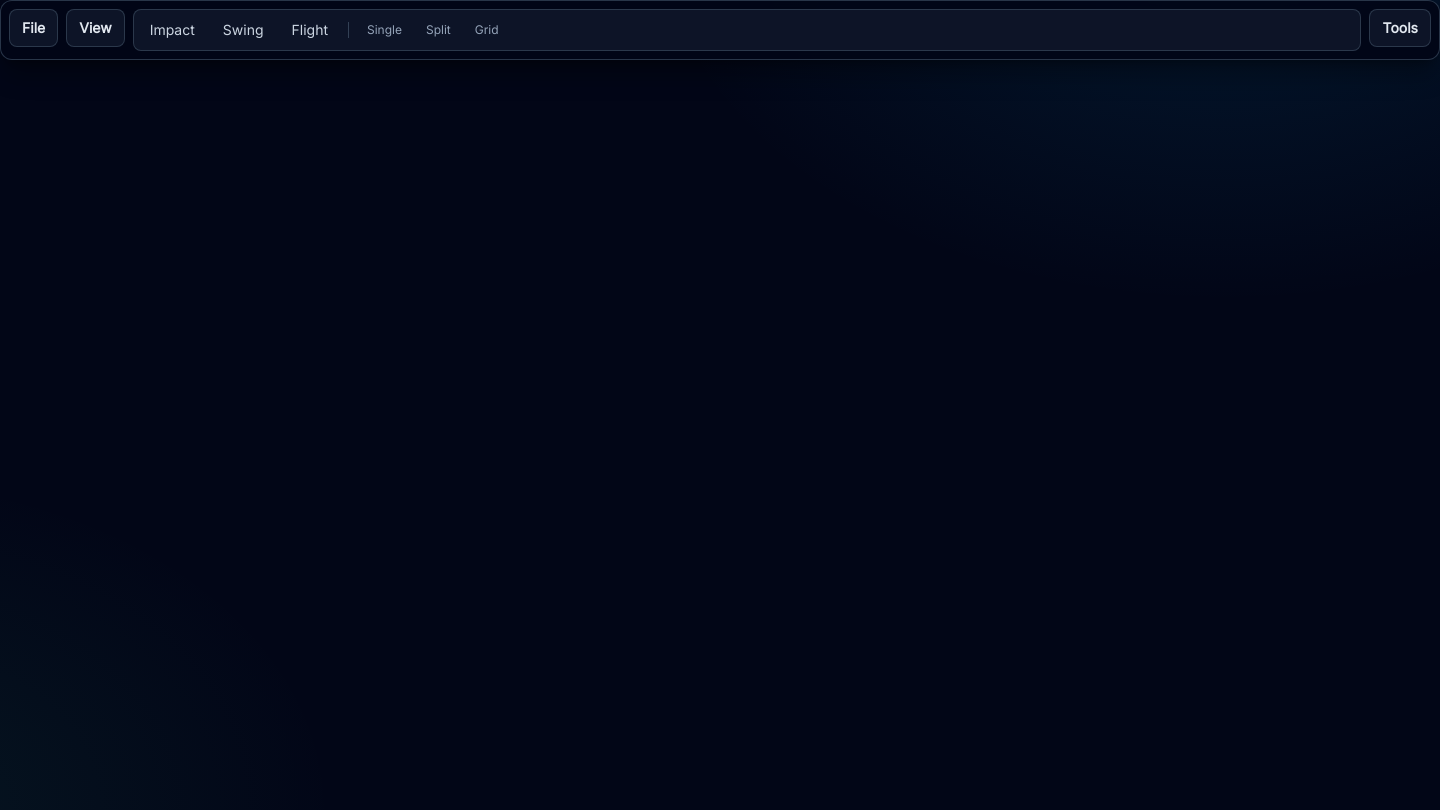
Test: AppToolstrip › exposes responsive File, View, and Tools command surfaces
The image size is (1440, 810).
Expected: the element with class "overflow-x-auto" is shown, x1=133 y1=9 x2=1361 y2=51
Expected: the heading "File" is shown, x1=22 y1=19 x2=45 y2=36
Click the heading "View" at {"x": 95, "y": 28}, box x1=79 y1=19 x2=112 y2=36
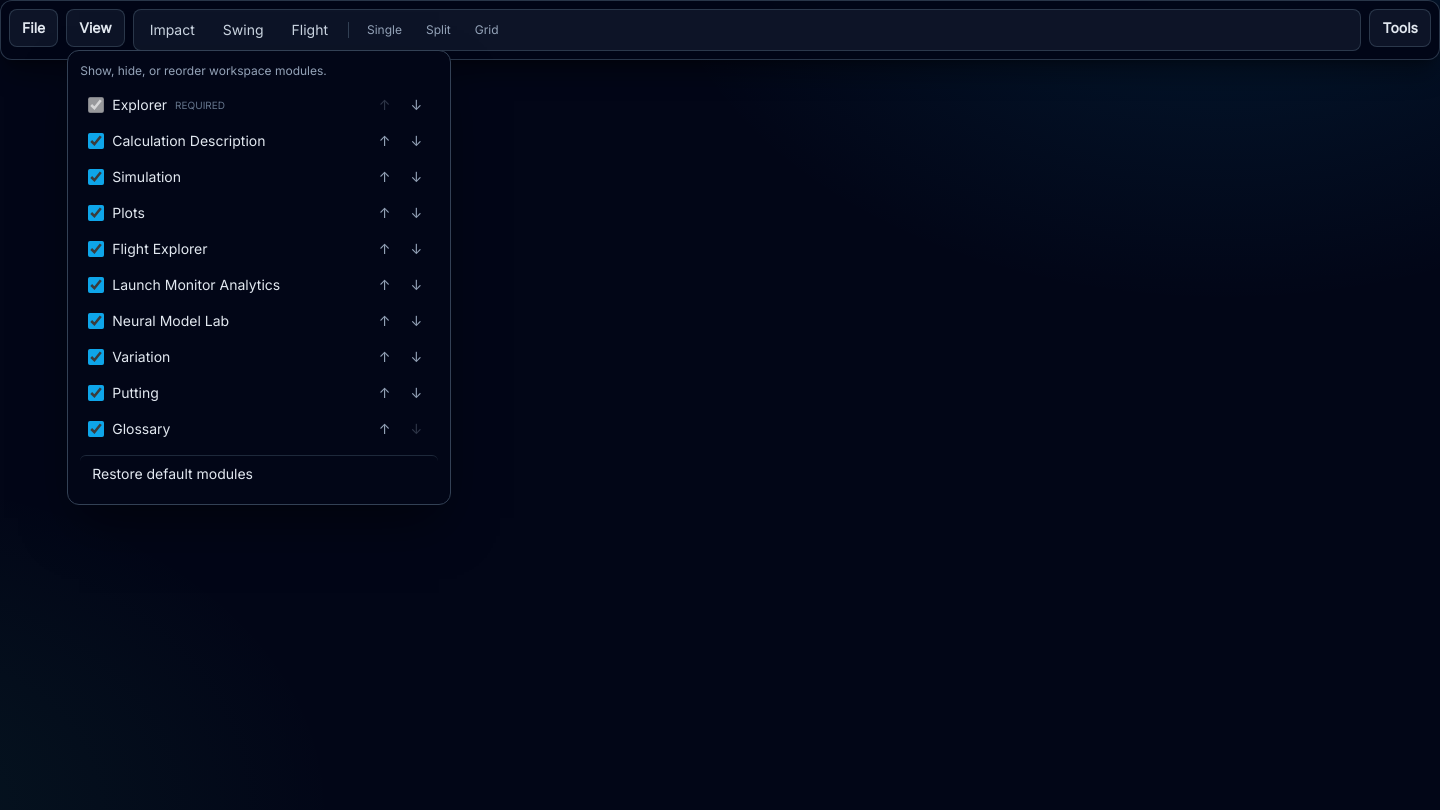
Click the heading "File" at {"x": 34, "y": 28}, box x1=22 y1=19 x2=45 y2=36
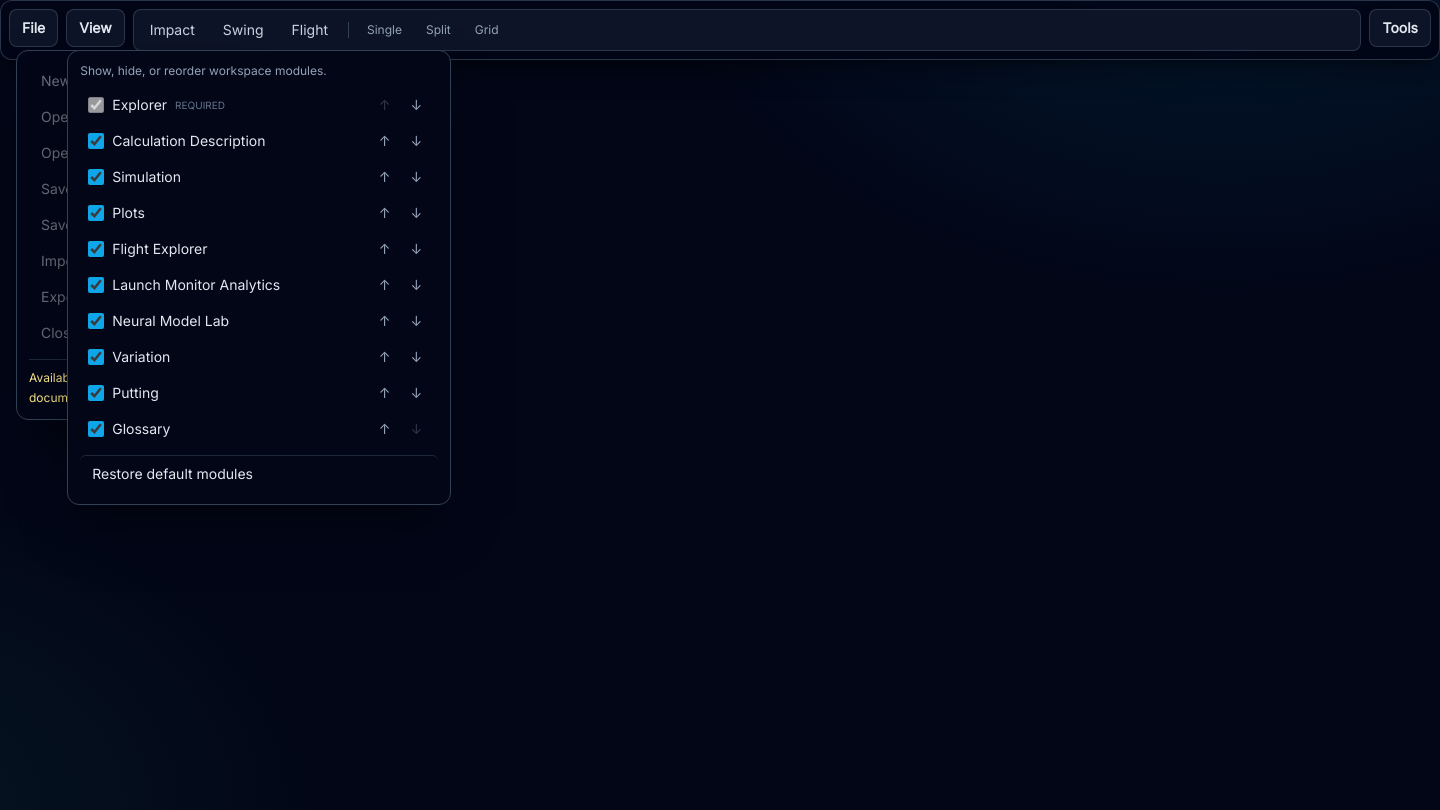
Now the button "New Workspace" is disabled, box x1=29 y1=63 x2=259 y2=99
Now the text "workspace document adapter" is shown, box x1=29 y1=370 x2=239 y2=404
